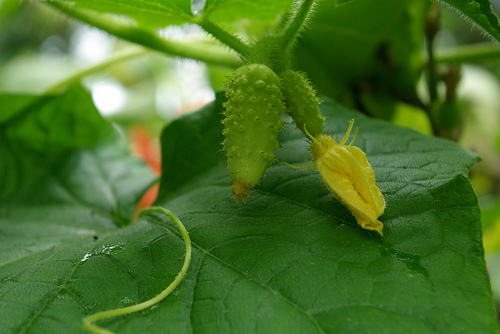cucumber: (221, 61, 288, 200), (279, 68, 328, 137)
